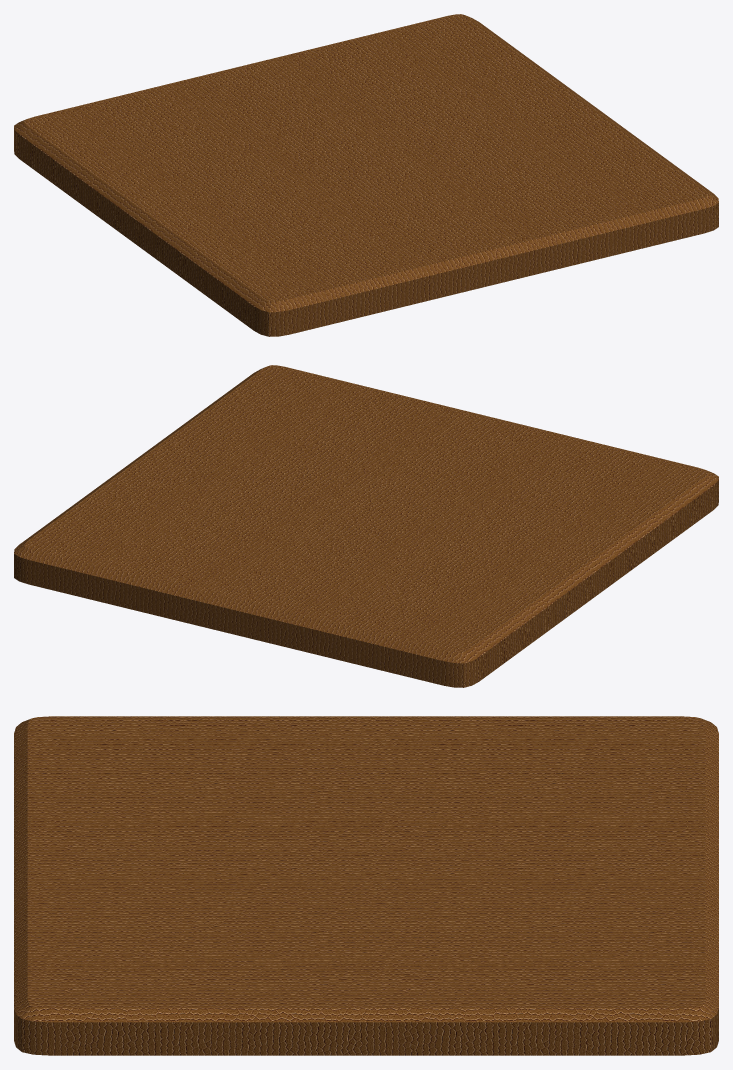
Rendered from Coaster.FBX.
3 views of the same model, one above another, from view 1: azimuth 30°, elevation 25°; view 2: azimuth 150°, elevation 25°; view 3: azimuth 270°, elevation 25° (orthographic). The views are drawn at different scales.
Visible parts, largest first — view 1: Box001; view 2: Box001; view 3: Box001.
Part boxes in pixels (<box>): Box001: <box>14,14,718,336</box>; Box001: <box>14,365,718,687</box>; Box001: <box>14,716,718,1055</box>.
Bounding box in the file's own units: 20.51 × 1.3 × 20.13.
1 material, 1 textured.
